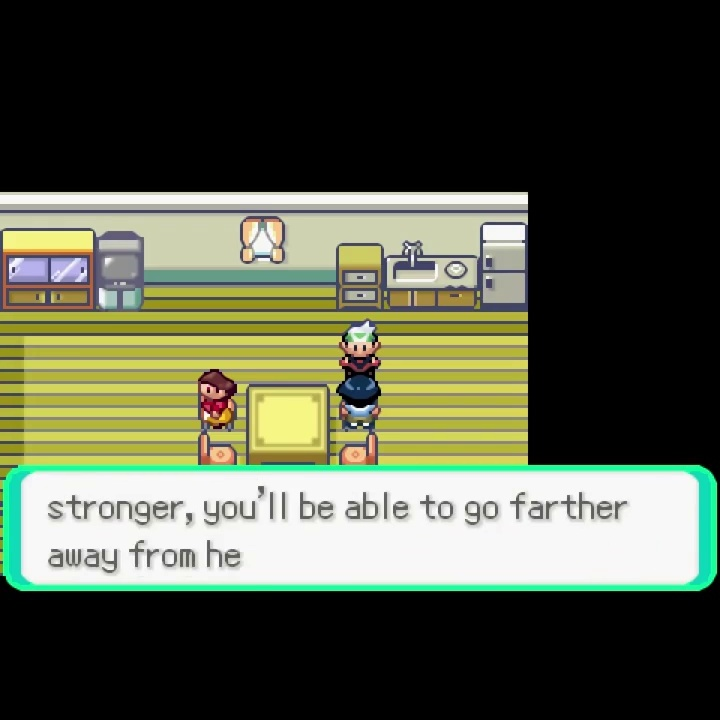agent: (337, 318, 382, 376)
npc: (337, 373, 385, 432), (196, 367, 238, 431)
